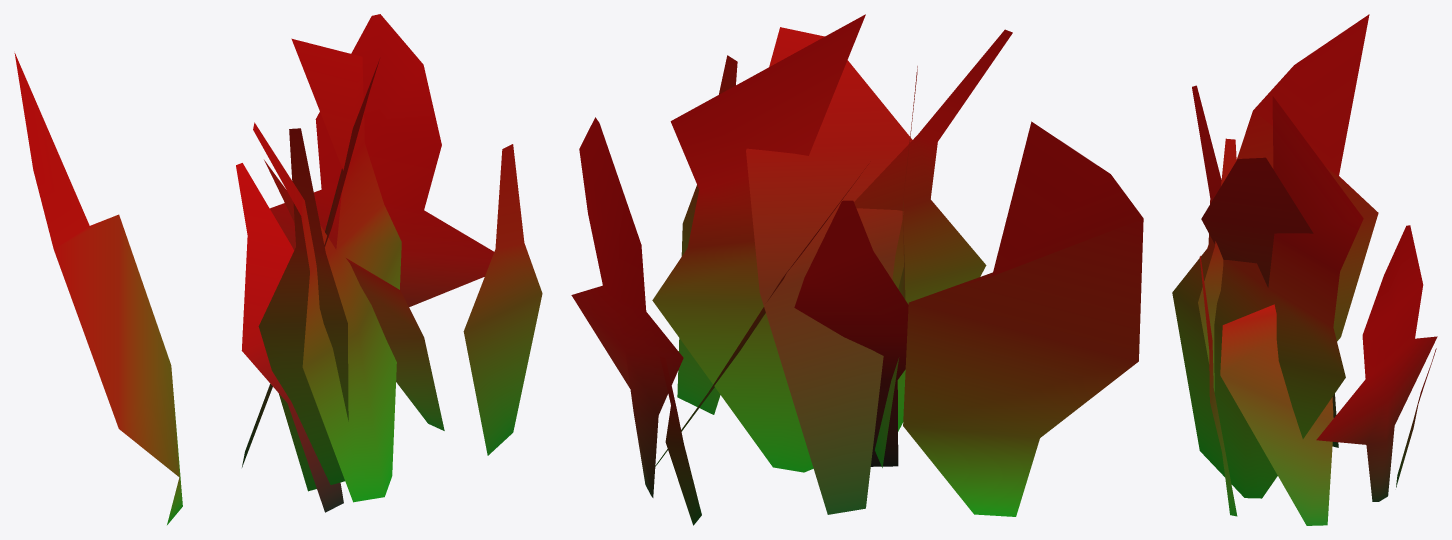
Rendered from rbptq_Var3_LOD0.fbx.
The picture shows the model from 3 angles, left to right: view 1: azimuth 30°, elevation 25°; view 2: azimuth 150°, elevation 25°; view 3: azimuth 270°, elevation 25°; orthographic projection. The views are drawn at different scales.
Visible parts, largest first — view 1: _7089_Var3_LOD0; view 2: _7089_Var3_LOD0; view 3: _7089_Var3_LOD0.
Boxes of the visible parts, x1,y1,x2,y2 form: _7089_Var3_LOD0: (14,14,542,524); _7089_Var3_LOD0: (571,14,1143,525); _7089_Var3_LOD0: (1172,14,1437,525).
Bounding box in the file's own units: 31.64 × 28.02 × 18.08.
